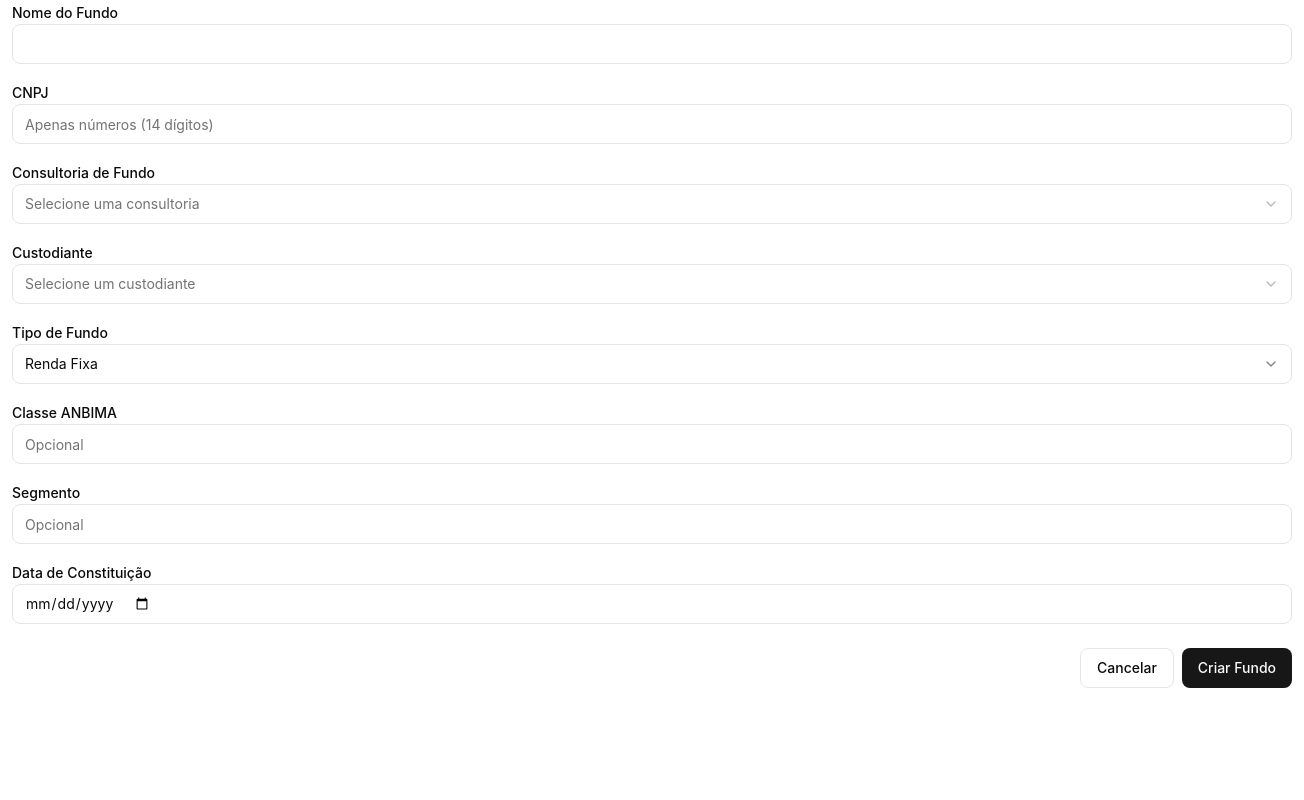
Test case: FundoForm — create mode › shows validation error when nome is empty on submit
The image size is (1304, 800).
Click the button "Criar Fundo" at (1237, 668), box [1182, 648, 1292, 688]
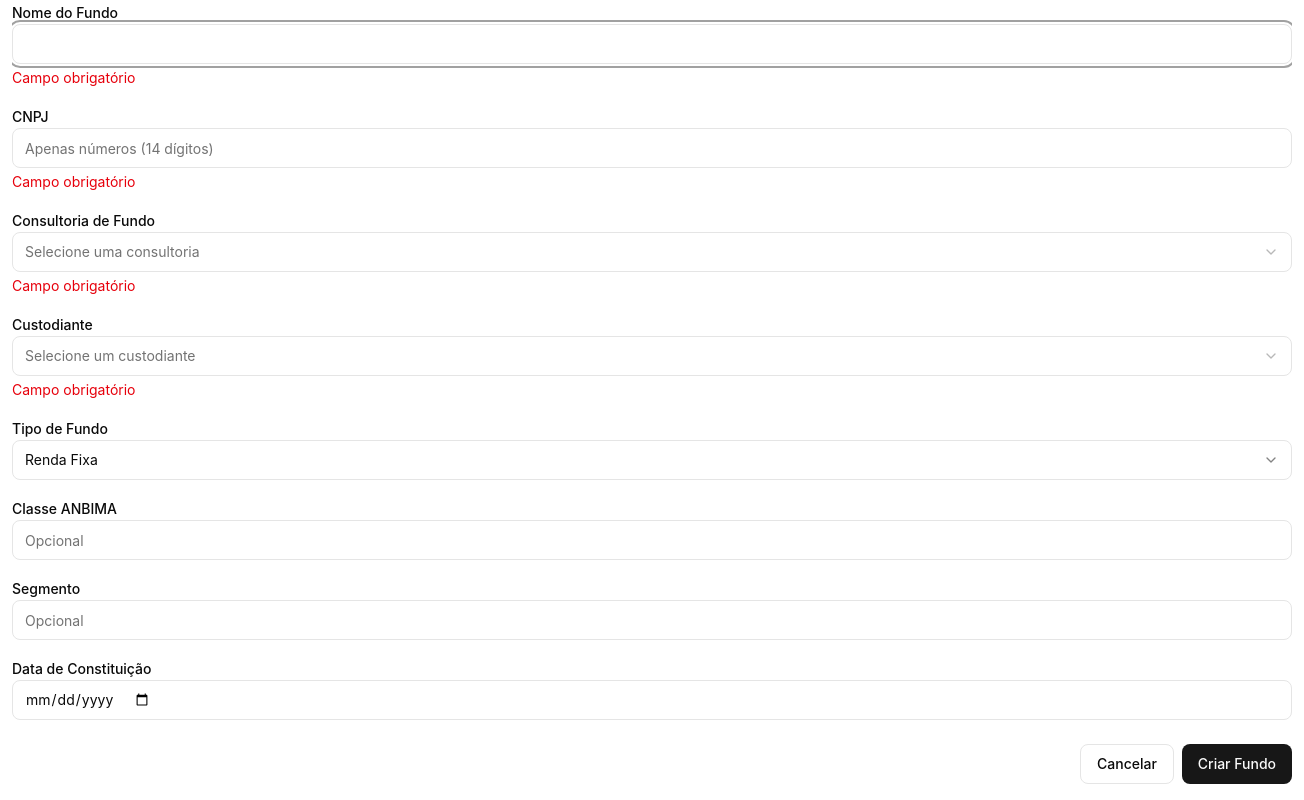
Result: the text "Campo obrigatório" below "Nome do Fundo" is shown at [12, 69, 136, 86]
